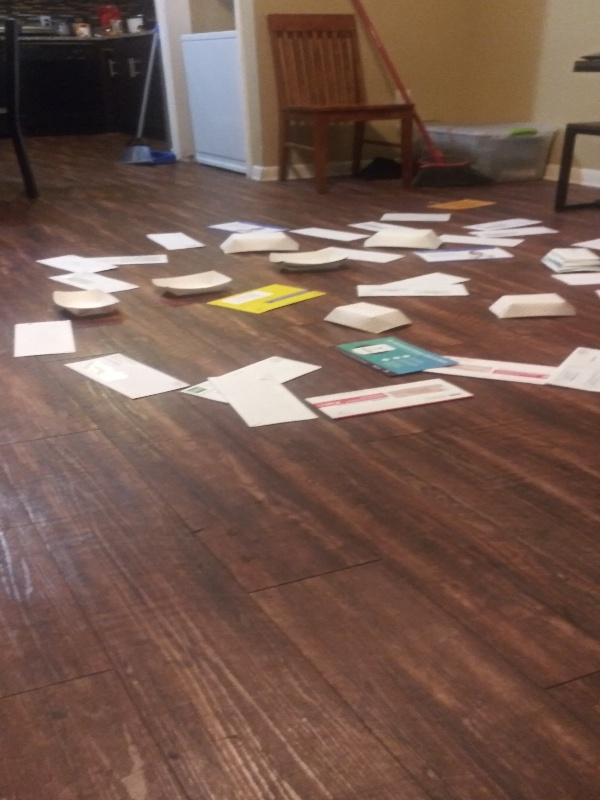plate: (320, 300, 418, 338), (482, 291, 580, 323), (49, 284, 124, 321), (149, 268, 235, 300), (359, 222, 448, 252), (266, 245, 355, 274), (215, 227, 305, 255), (534, 244, 600, 277)
